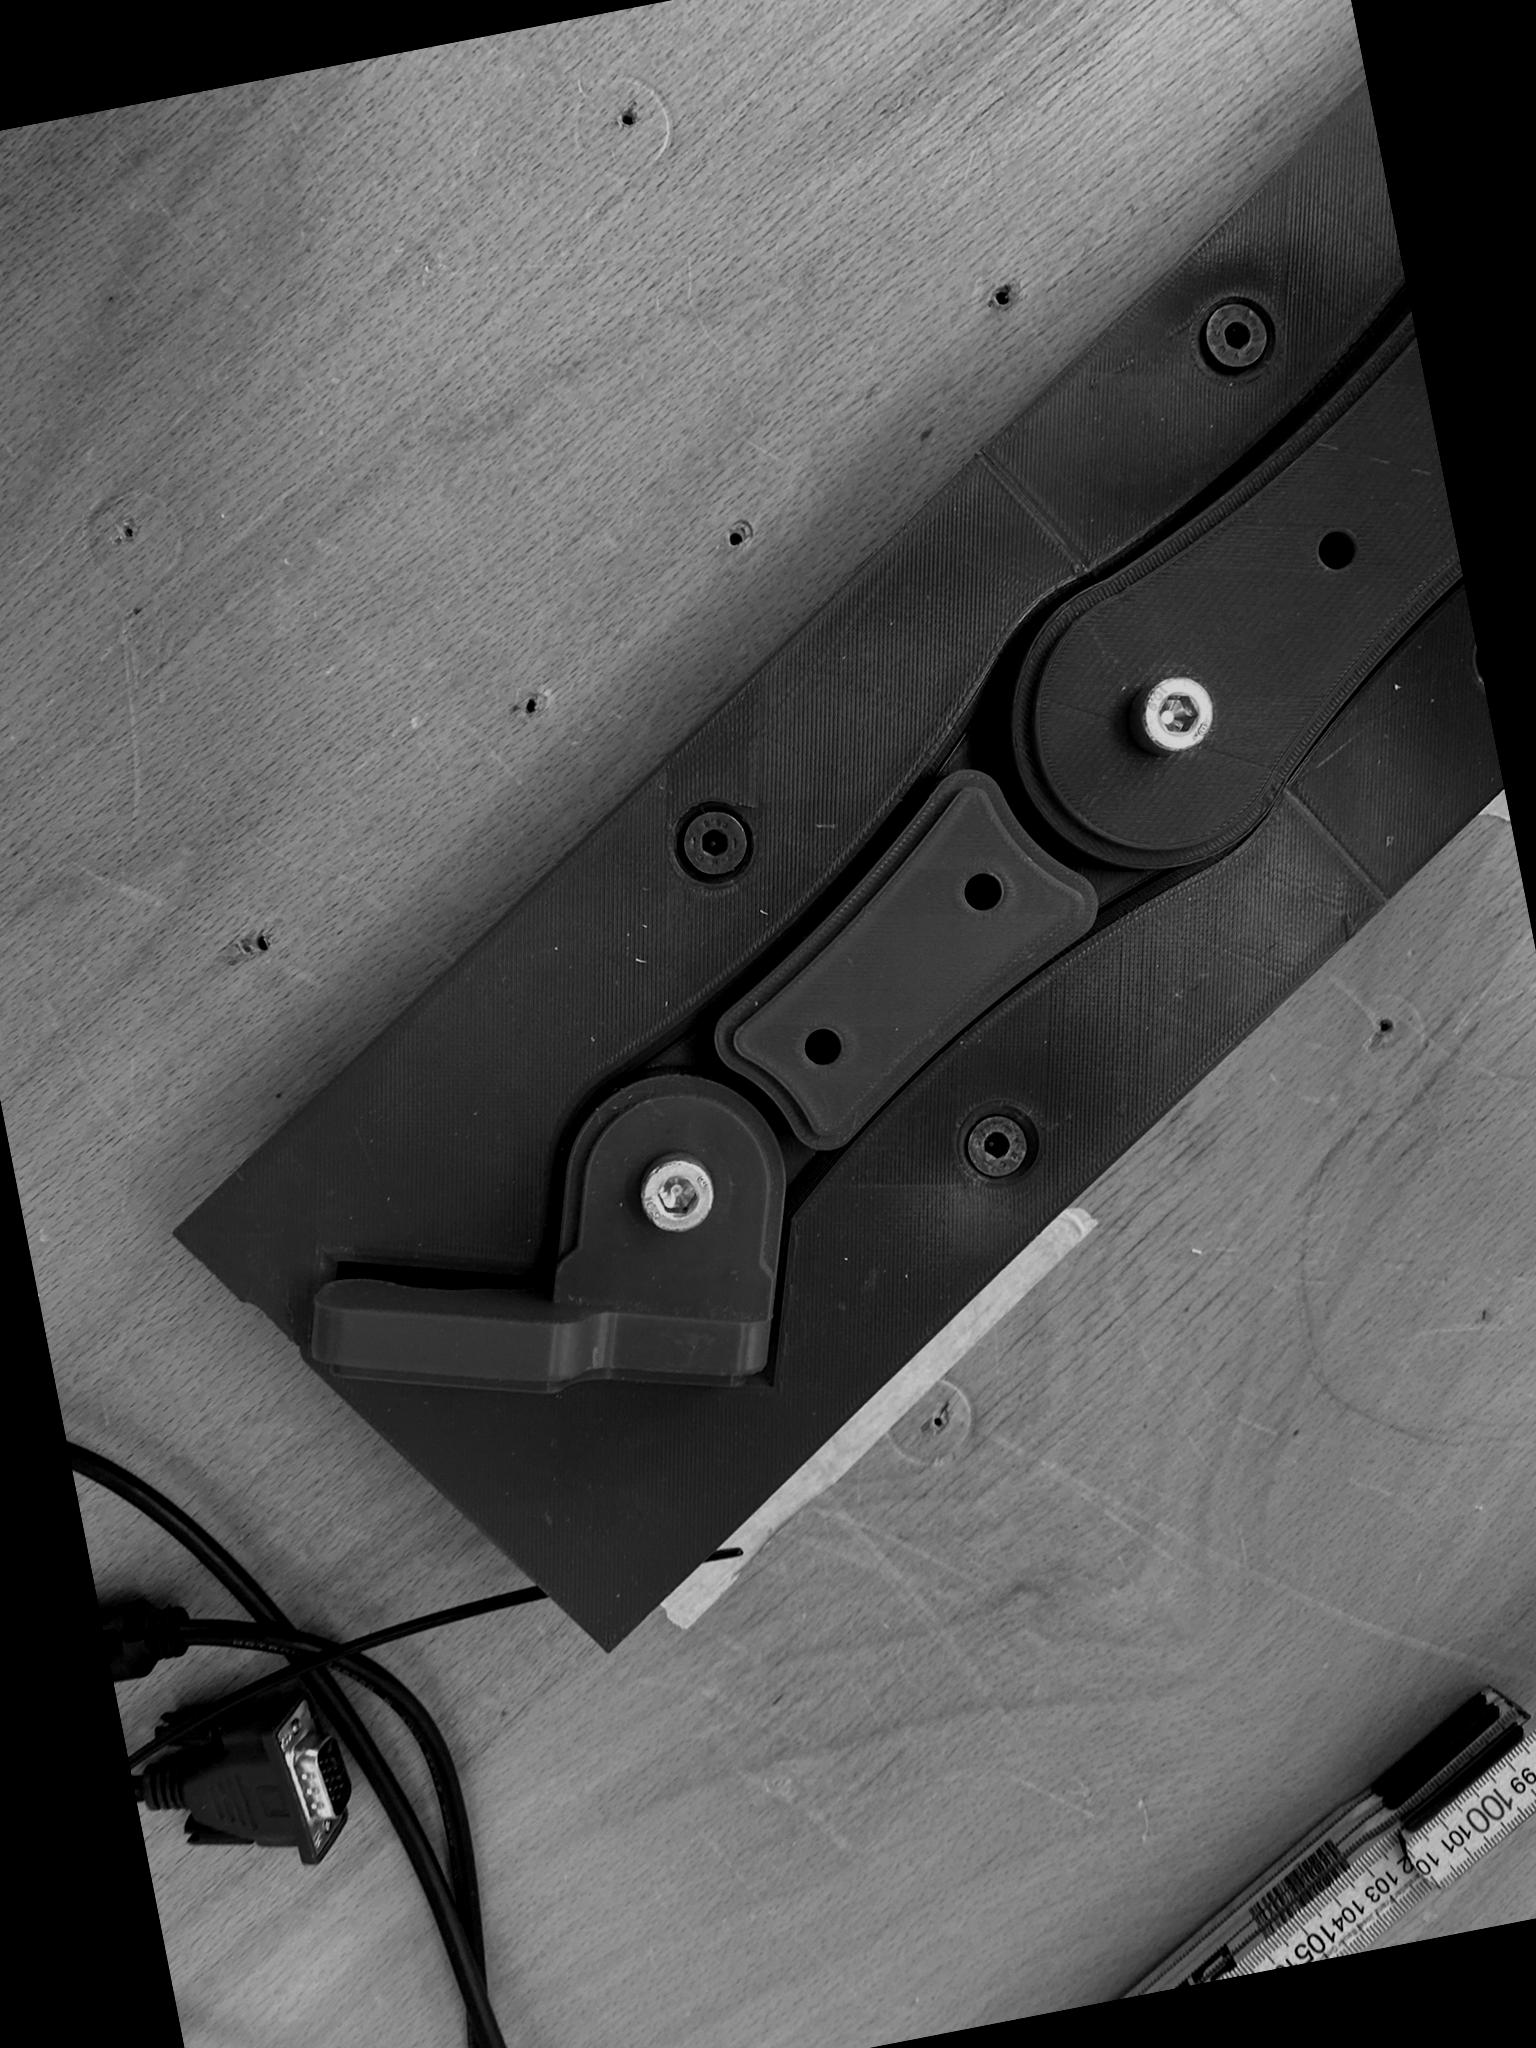screw: (631, 1148, 720, 1238), (1131, 669, 1220, 756), (673, 801, 755, 885), (1197, 292, 1275, 374), (957, 1106, 1034, 1182)
